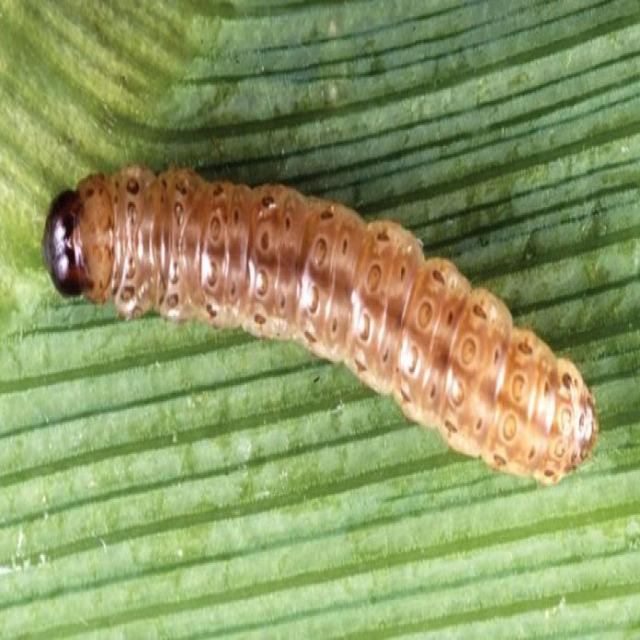cornborer-Larva-: (24, 132, 607, 502)
